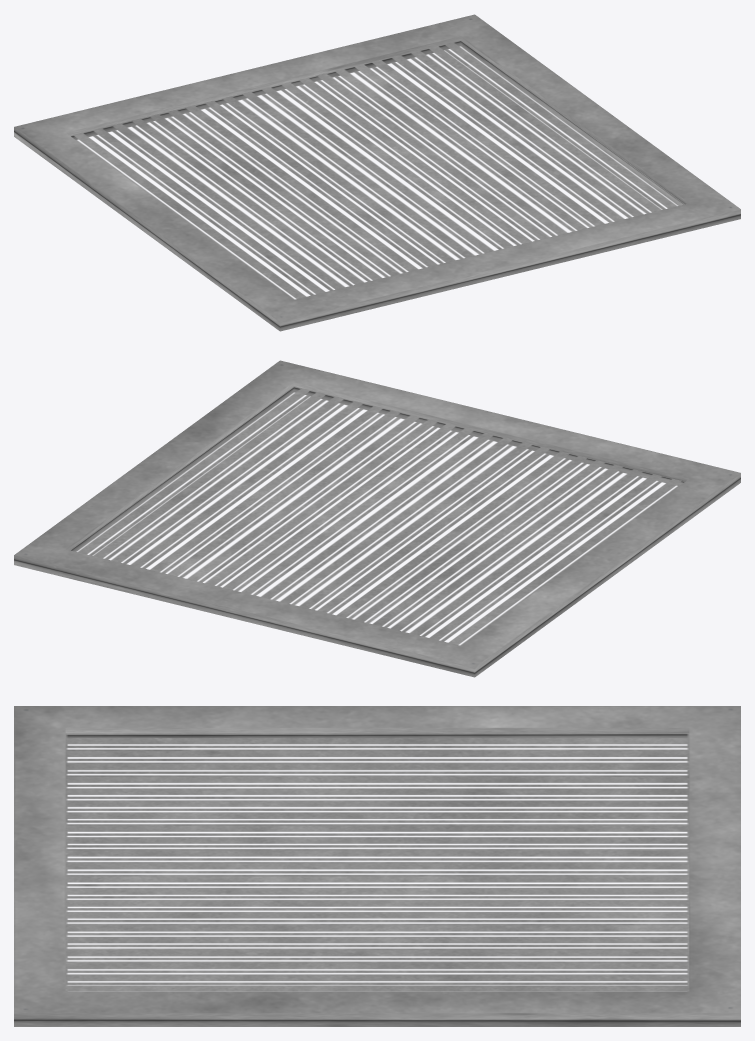
The model's file is floor_2.glb.
The picture shows the model from 3 angles, top to bottom: view 1: azimuth 30°, elevation 25°; view 2: azimuth 150°, elevation 25°; view 3: azimuth 270°, elevation 25°; orthographic projection. The views are drawn at different scales.
Visible parts, largest first — view 1: SM_Grate_1_LOW_M_Grate_1_LOW_0; view 2: SM_Grate_1_LOW_M_Grate_1_LOW_0; view 3: SM_Grate_1_LOW_M_Grate_1_LOW_0.
Boxes of the visible parts, x1,y1,x2,y2 form: SM_Grate_1_LOW_M_Grate_1_LOW_0: (14,14,740,331); SM_Grate_1_LOW_M_Grate_1_LOW_0: (14,360,740,677); SM_Grate_1_LOW_M_Grate_1_LOW_0: (14,706,740,1026).
Bounding box in the file's own units: 100 × 2.05 × 100.
1 material, 1 textured.
